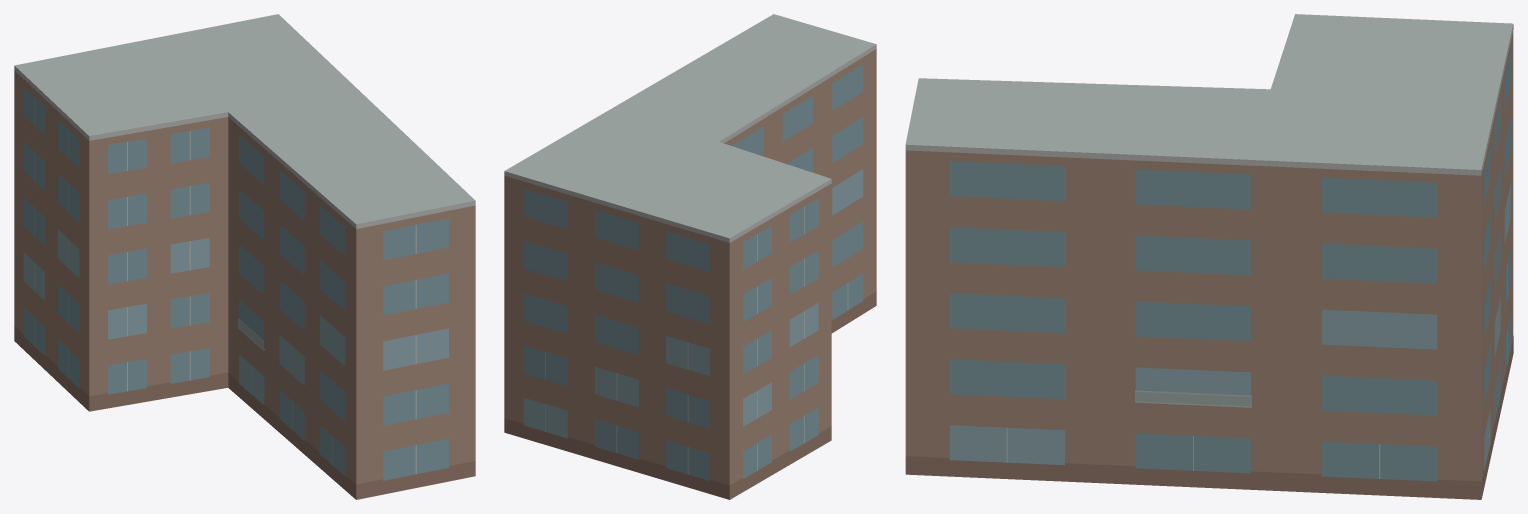
The model's file is survey-upis-32457596.glb.
The picture shows the model from 3 angles, left to right: view 1: azimuth 30°, elevation 25°; view 2: azimuth 150°, elevation 25°; view 3: azimuth 270°, elevation 25°; orthographic projection. The views are drawn at different scales.
Parts seen in each view (by area): view 1: survey-upis-32457596.tmp; view 2: survey-upis-32457596.tmp; view 3: survey-upis-32457596.tmp.
Part boxes in pixels (x1,y1,x2,y2): survey-upis-32457596.tmp: (14, 14, 475, 499); survey-upis-32457596.tmp: (504, 14, 876, 499); survey-upis-32457596.tmp: (905, 14, 1513, 499).
Bounding box in the file's own units: 14.42 × 14.2 × 23.73.
